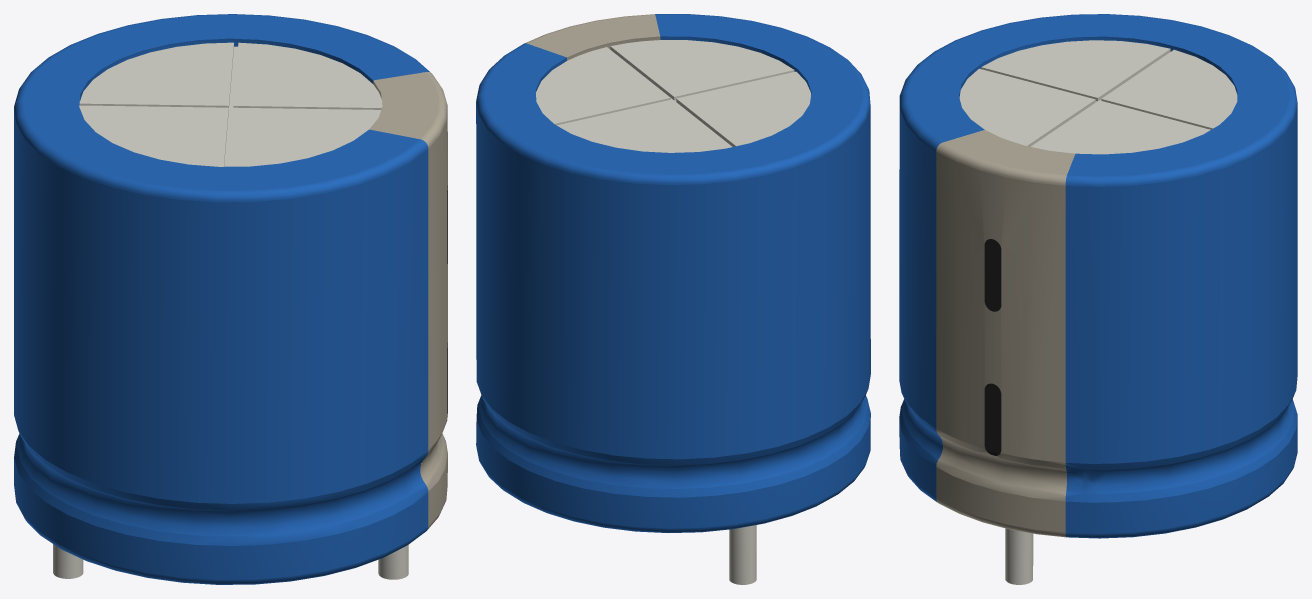
The model's file is kc-cp_radial_d10.0mm_p5.00mm_p7.50mm.glb.
3 renders of one model, left to right at view 1: azimuth 30°, elevation 25°; view 2: azimuth 150°, elevation 25°; view 3: azimuth 270°, elevation 25°, orthographic. The views are drawn at different scales.
Parts seen in each view (by area): view 1: 0_0.16666666666666666_0.5_0, 0.6666666666666666_0.6666666666666666_0.5833333333333334_0.8, 0.4166666666666667_0.4166666666666667_0.3333333333333333_0; view 2: 0_0.16666666666666666_0.5_0, 0.6666666666666666_0.6666666666666666_0.5833333333333334_0.8, 0.4166666666666667_0.4166666666666667_0.3333333333333333_0; view 3: 0_0.16666666666666666_0.5_0, 0.4166666666666667_0.4166666666666667_0.3333333333333333_0, 0.6666666666666666_0.6666666666666666_0.5833333333333334_0.8, 0_0_0_0.
Part boxes in pixels (<box>): 0_0.16666666666666666_0.5_0: <box>14,14,430,584</box>; 0.6666666666666666_0.6666666666666666_0.5833333333333334_0.8: <box>53,42,408,579</box>; 0.4166666666666667_0.4166666666666667_0.3333333333333333_0: <box>369,72,447,528</box>; 0_0.16666666666666666_0.5_0: <box>476,14,870,532</box>; 0.6666666666666666_0.6666666666666666_0.5833333333333334_0.8: <box>536,40,810,584</box>; 0.4166666666666667_0.4166666666666667_0.3333333333333333_0: <box>525,14,660,60</box>; 0_0.16666666666666666_0.5_0: <box>899,14,1297,538</box>; 0.4166666666666667_0.4166666666666667_0.3333333333333333_0: <box>936,130,1075,537</box>; 0.6666666666666666_0.6666666666666666_0.5833333333333334_0.8: <box>959,40,1237,584</box>; 0_0_0_0: <box>984,239,1001,455</box>.
Size of the model in its own units: 0.9999 by 1.2 by 0.9999.
